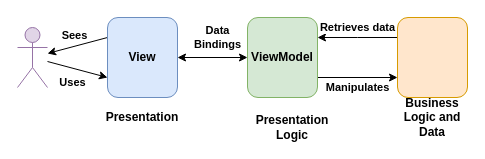
Some shapes in this 485 by 159 pixel diagram are drawn without their labels. Here are the shapes that lost their labels. From the top down, the centre of each, then its label:
[32,57]: Actor
[432,57]: Model
